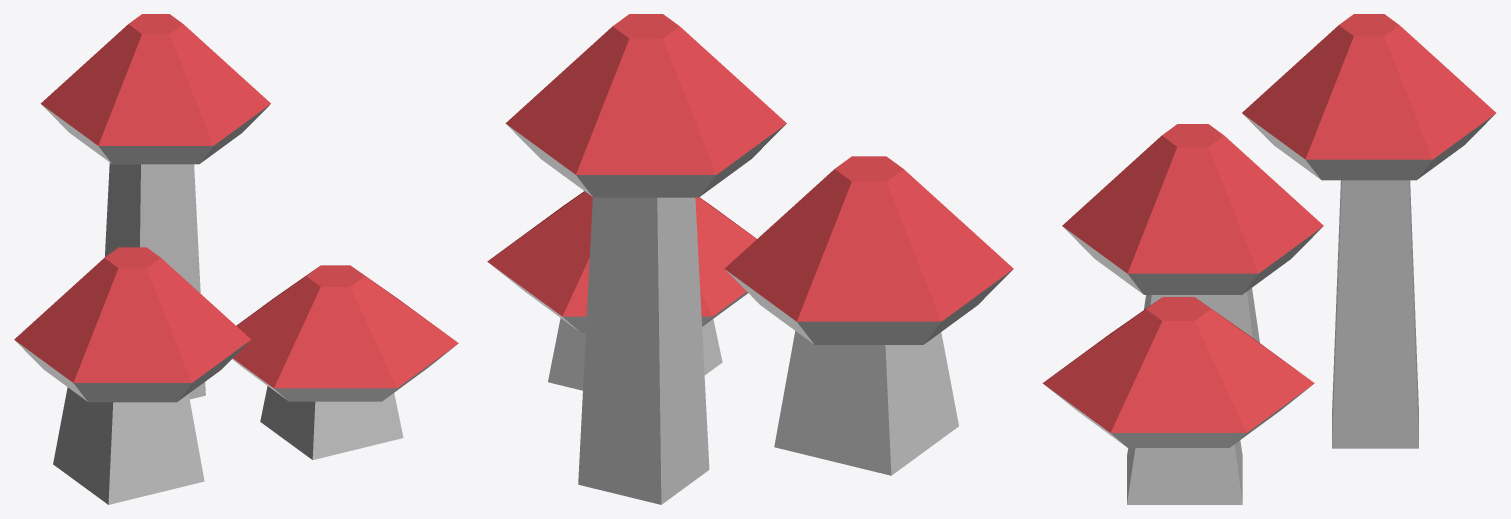
The model's file is mushroom_redGroup.obj.
The picture shows the model from 3 angles, left to right: view 1: azimuth 30°, elevation 25°; view 2: azimuth 150°, elevation 25°; view 3: azimuth 270°, elevation 25°; orthographic projection. The views are drawn at different scales.
Parts seen in each view (by area): view 1: Mesh mushroom_redGroup-1, Mesh mushroom_redGroup-0; view 2: Mesh mushroom_redGroup-1, Mesh mushroom_redGroup-0; view 3: Mesh mushroom_redGroup-1, Mesh mushroom_redGroup-0.
Boxes of the visible parts, x1,y1,x2,y2 form: Mesh mushroom_redGroup-1: (14, 14, 458, 388); Mesh mushroom_redGroup-0: (15, 104, 454, 504); Mesh mushroom_redGroup-1: (487, 14, 1013, 321); Mesh mushroom_redGroup-0: (490, 124, 1013, 504); Mesh mushroom_redGroup-1: (1042, 14, 1495, 432); Mesh mushroom_redGroup-0: (1046, 114, 1494, 504).
Bounding box in the file's own units: 0.2696 × 0.2505 × 0.2542.
